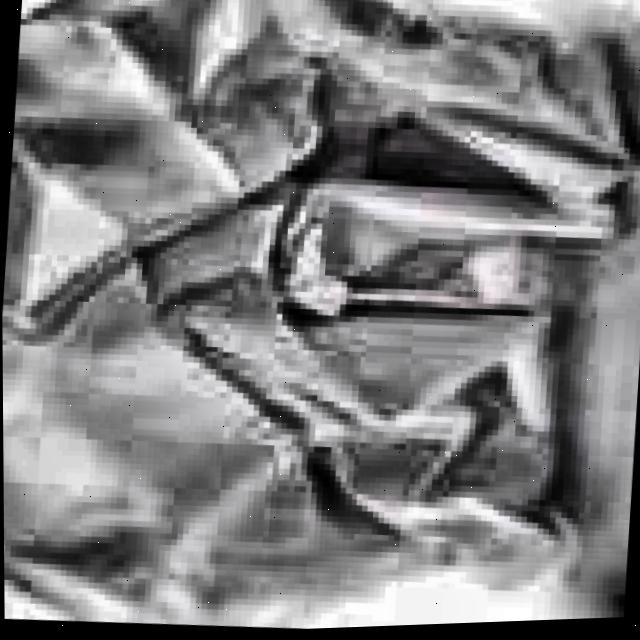paper: (2, 0, 633, 631)
